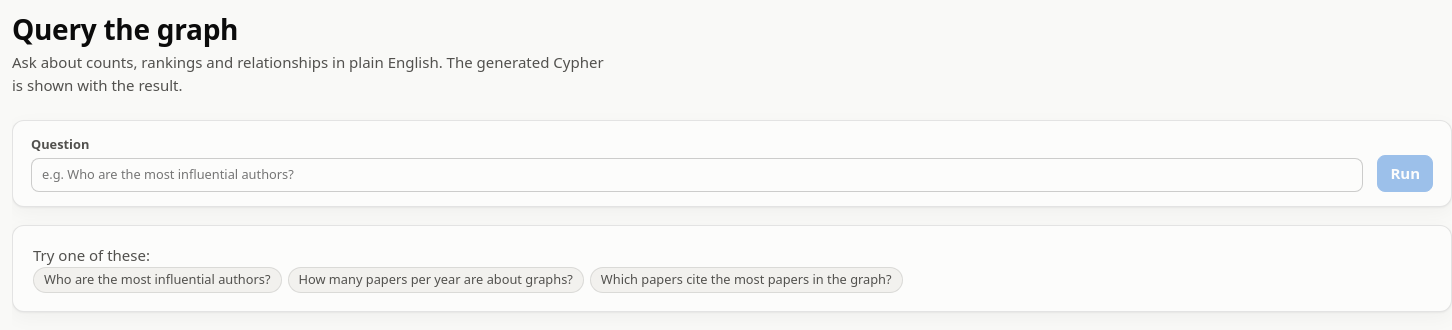
Test: QueryPage › shows rejection errors
Type "top authors" into the field labelled "Question" at (697, 175), box x1=31 y1=158 x2=1363 y2=192
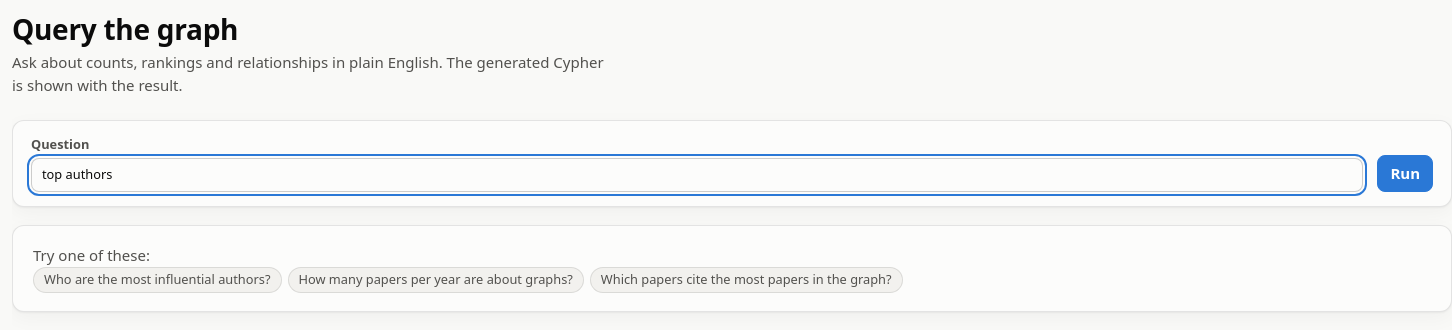
Click the button "Run" at (1405, 174), box x1=1377 y1=155 x2=1433 y2=192
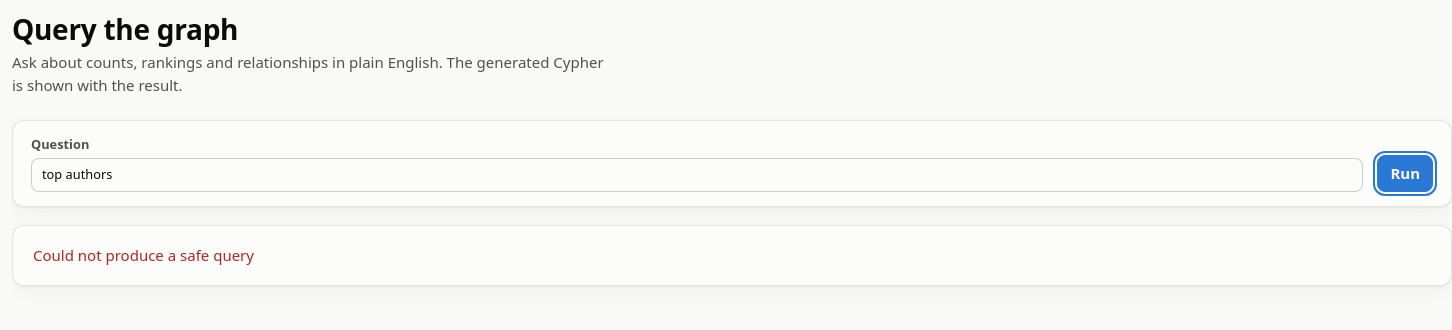
Result: the text "Could not produce a safe query" is shown at x1=33 y1=245 x2=254 y2=265
